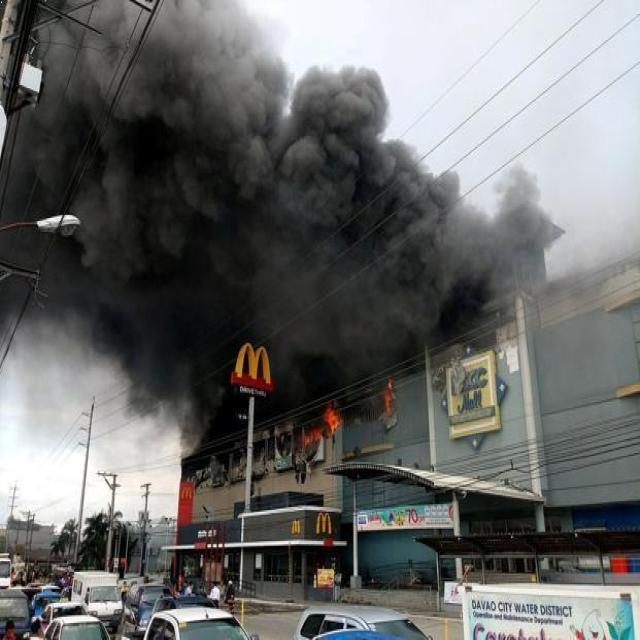Fire: (316, 396, 344, 446), (380, 384, 396, 424)
Smoke: (5, 9, 572, 474)
